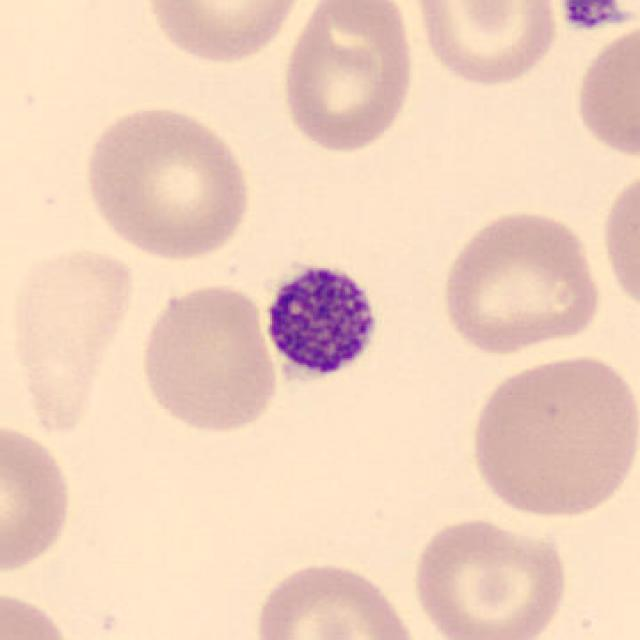Platelets: (256, 254, 388, 393), (554, 0, 634, 32)
RBC: (464, 349, 638, 522), (78, 100, 258, 262), (4, 238, 140, 439), (436, 204, 606, 358), (135, 279, 281, 437), (278, 0, 420, 157), (409, 513, 571, 640), (247, 555, 425, 640), (407, 0, 564, 90), (0, 417, 76, 578), (140, 0, 310, 67), (570, 15, 640, 162), (597, 162, 640, 323), (0, 587, 80, 640)
